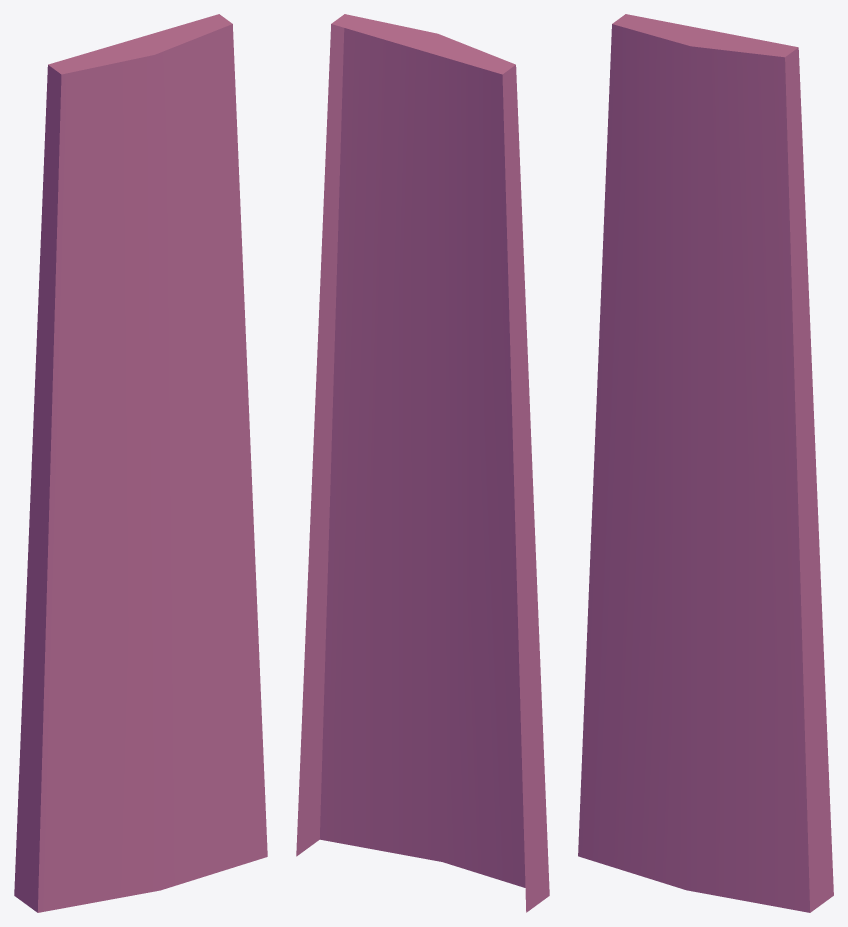
The model's file is Module_Rock_Mesh_02_v01.fbx.
3 renders of one model, left to right at view 1: azimuth 30°, elevation 25°; view 2: azimuth 150°, elevation 25°; view 3: azimuth 330°, elevation 25°, orthographic.
Parts seen in each view (by area): view 1: Module_Rock_Mesh_02_v01; view 2: Module_Rock_Mesh_02_v01; view 3: Module_Rock_Mesh_02_v01.
Boxes of the visible parts, left/top/right/bottom form: Module_Rock_Mesh_02_v01: left=14, top=14, right=267, bottom=912; Module_Rock_Mesh_02_v01: left=296, top=14, right=549, bottom=912; Module_Rock_Mesh_02_v01: left=578, top=14, right=833, bottom=912.
Bounding box in the file's own units: 45.66 × 159 × 10.73.
